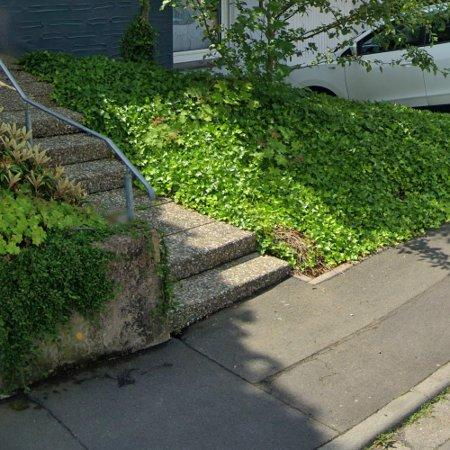stairs: (137, 191, 290, 333), (32, 109, 125, 221), (11, 68, 79, 121)
